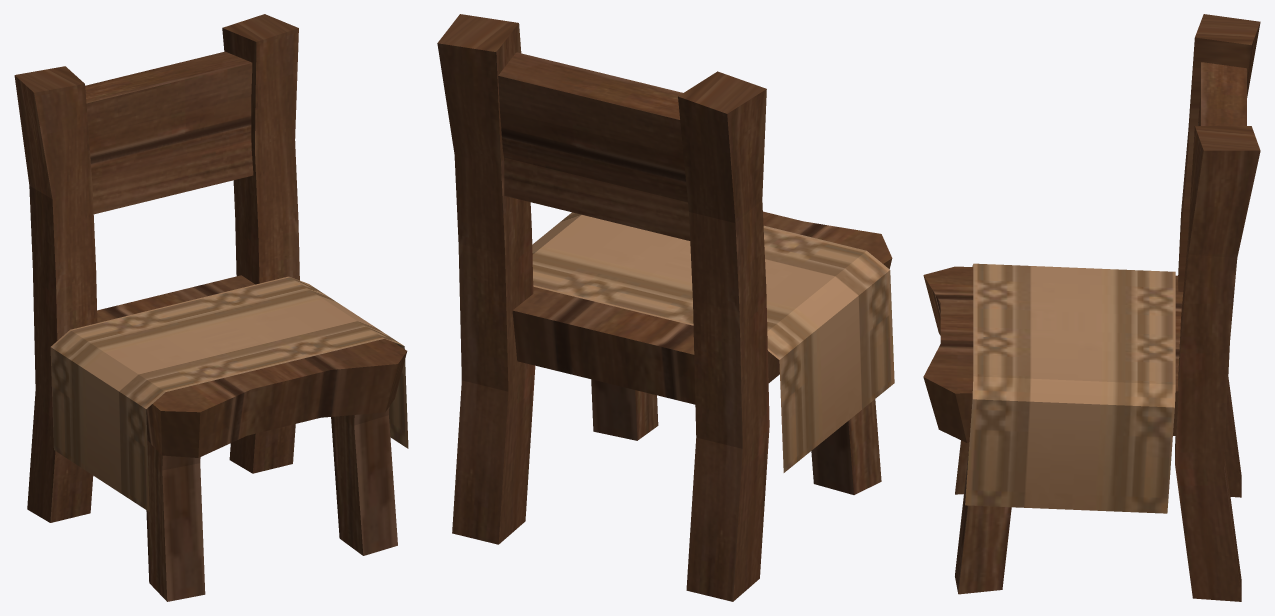
Rendered from Chair_01.glb.
3 views of the same model, side by side, from view 1: azimuth 30°, elevation 25°; view 2: azimuth 150°, elevation 25°; view 3: azimuth 270°, elevation 25° (orthographic). The views are drawn at different scales.
Visible parts, largest first — view 1: Chair_01; view 2: Chair_01; view 3: Chair_01.
Boxes of the visible parts, <box> form: Chair_01: <box>14,14,408,601</box>; Chair_01: <box>437,14,894,601</box>; Chair_01: <box>923,14,1260,601</box>.
Bounding box in the file's own units: 1.61 × 2.52 × 1.68.
Materials: 1 (1 with a texture image).
